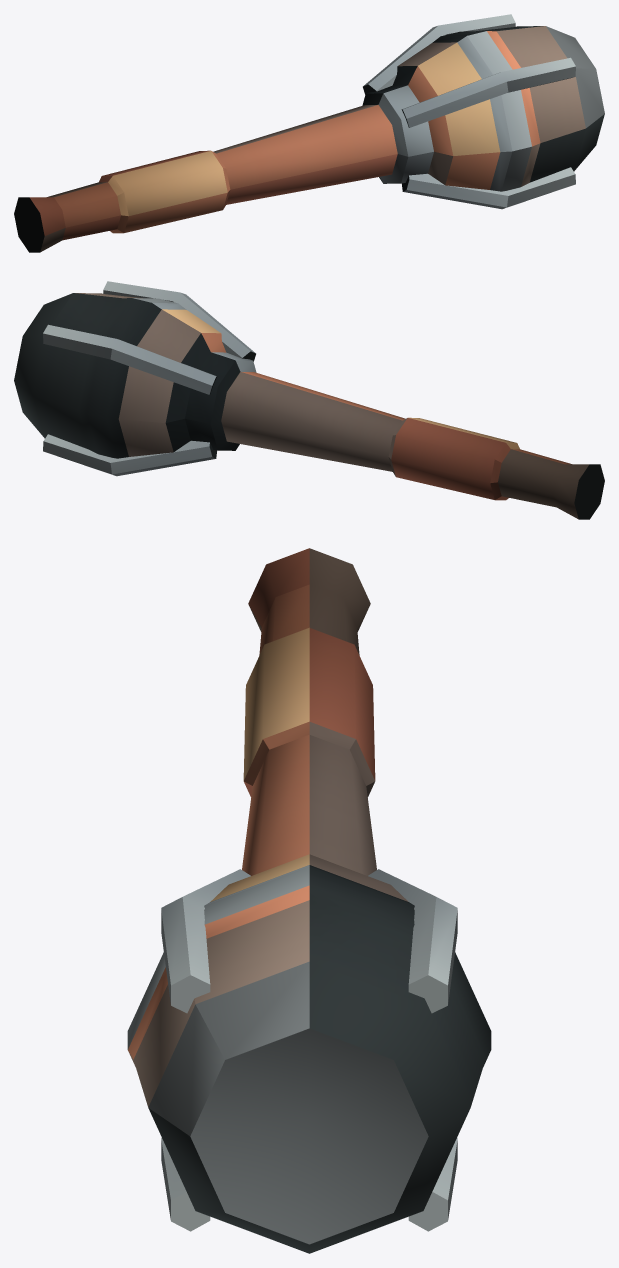
Rendered from tool_torch_wooden.glb.
3 views of the same model, one above another, from view 1: azimuth 30°, elevation 25°; view 2: azimuth 150°, elevation 25°; view 3: azimuth 270°, elevation 25° (orthographic). The views are drawn at different scales.
Visible parts, largest first — view 1: Item; view 2: Item; view 3: Item.
Part boxes in pixels (left/top/right/bottom): Item: left=14, top=14, right=604, bottom=252; Item: left=14, top=281, right=604, bottom=519; Item: left=127, top=548, right=491, bottom=1253.
Size of the model in its own units: 1.11 by 0.32 by 0.32.
Materials: 4 (4 with a texture image).
